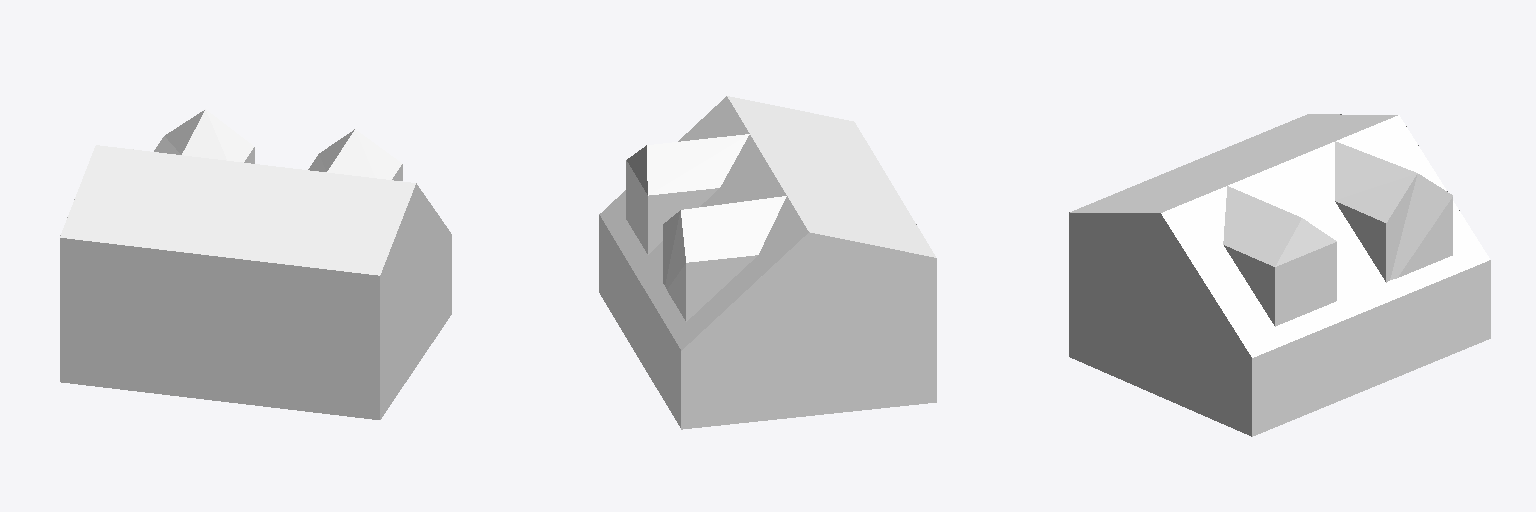
File: house_Shape 85.obj
3 renders of one model, left to right at view 1: azimuth 30°, elevation 25°; view 2: azimuth 150°, elevation 25°; view 3: azimuth 270°, elevation 25°, orthographic.
Visible parts, largest first — view 1: CityEngineMaterial_20, CityEngineMaterial_18; view 2: CityEngineMaterial_20, CityEngineMaterial_18; view 3: CityEngineMaterial_20, CityEngineMaterial_18.
Boxes of the visible parts, x1=… form: CityEngineMaterial_20: x1=60, y1=147, x2=451, y2=419; CityEngineMaterial_18: x1=60, y1=109, x2=415, y2=275; CityEngineMaterial_20: x1=599, y1=160, x2=936, y2=429; CityEngineMaterial_18: x1=599, y1=96, x2=935, y2=350; CityEngineMaterial_20: x1=1069, y1=114, x2=1490, y2=436; CityEngineMaterial_18: x1=1070, y1=114, x2=1489, y2=357.
Bounding box in the file's own units: 11.24 × 5.41 × 11.24.